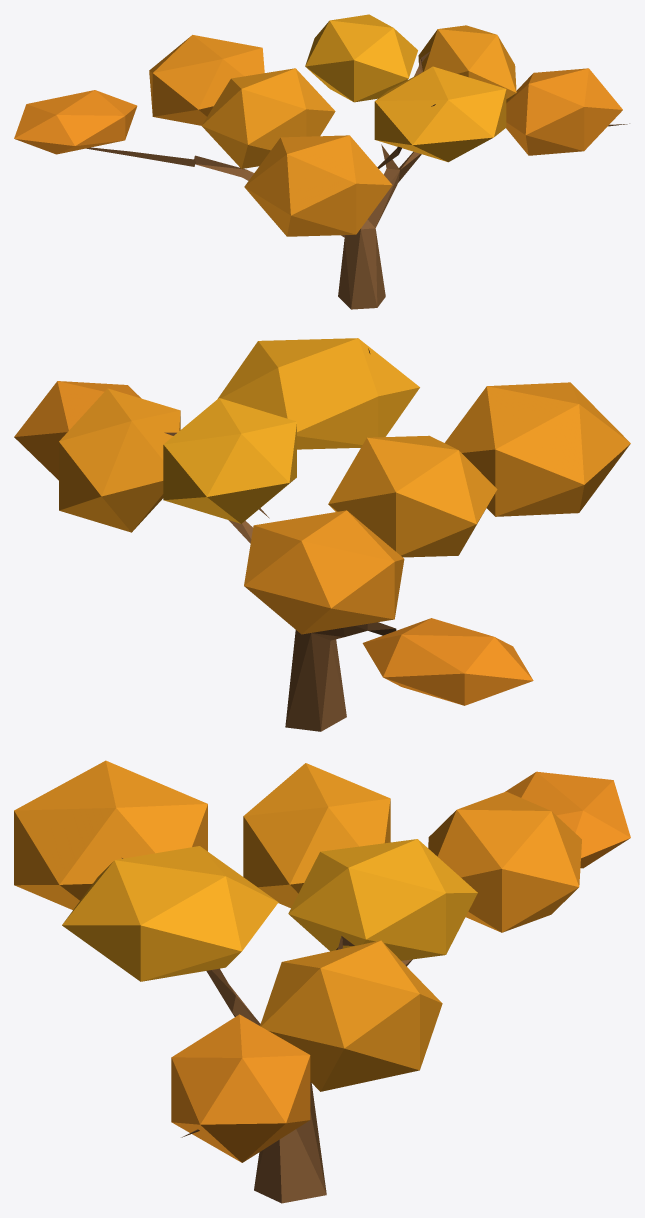
The model's file is guayacan_4_autumn_far.glb.
The picture shows the model from 3 angles, top to bottom: view 1: azimuth 30°, elevation 25°; view 2: azimuth 150°, elevation 25°; view 3: azimuth 270°, elevation 25°; orthographic projection. The views are drawn at different scales.
Parts seen in each view (by area): view 1: guayacan_4_autumn_far; view 2: guayacan_4_autumn_far; view 3: guayacan_4_autumn_far.
Part boxes in pixels (x1=…): guayacan_4_autumn_far: x1=14, y1=14, x2=629, y2=309; guayacan_4_autumn_far: x1=14, y1=338, x2=630, y2=731; guayacan_4_autumn_far: x1=14, y1=760, x2=630, y2=1203.
Bounding box in the file's own units: 11.6 × 5.55 × 8.68.
